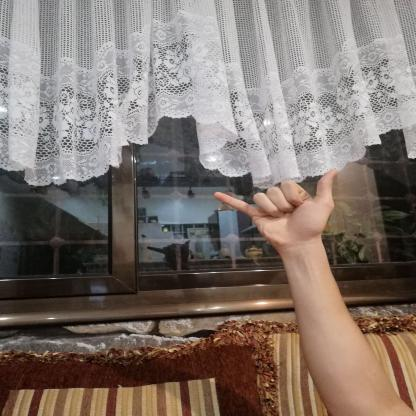YA: (202, 162, 347, 256)
